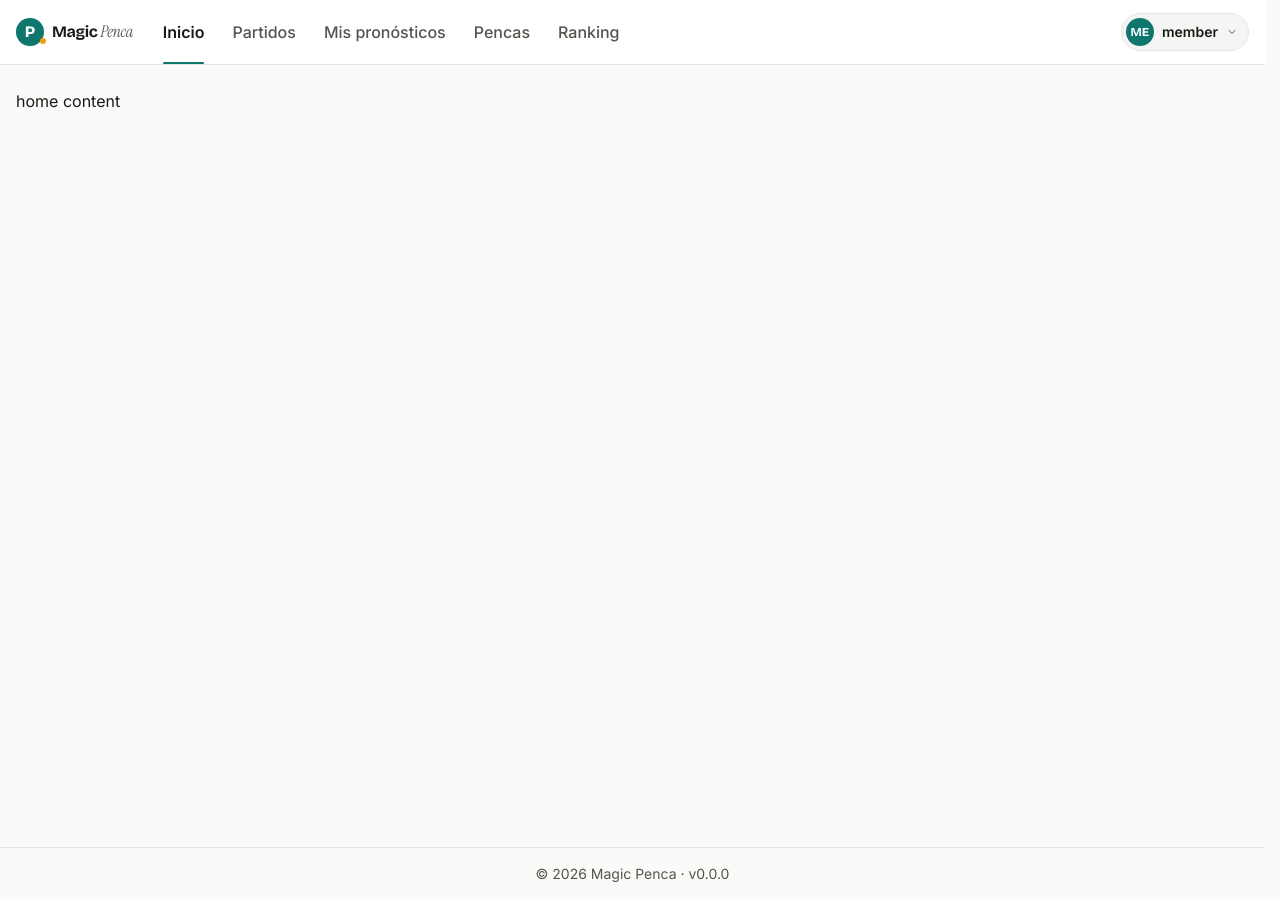
AppShell › hides the admin panel dropdown item from non-admins
Click the button "ME member": click(1185, 32) [1121,13,1249,51]
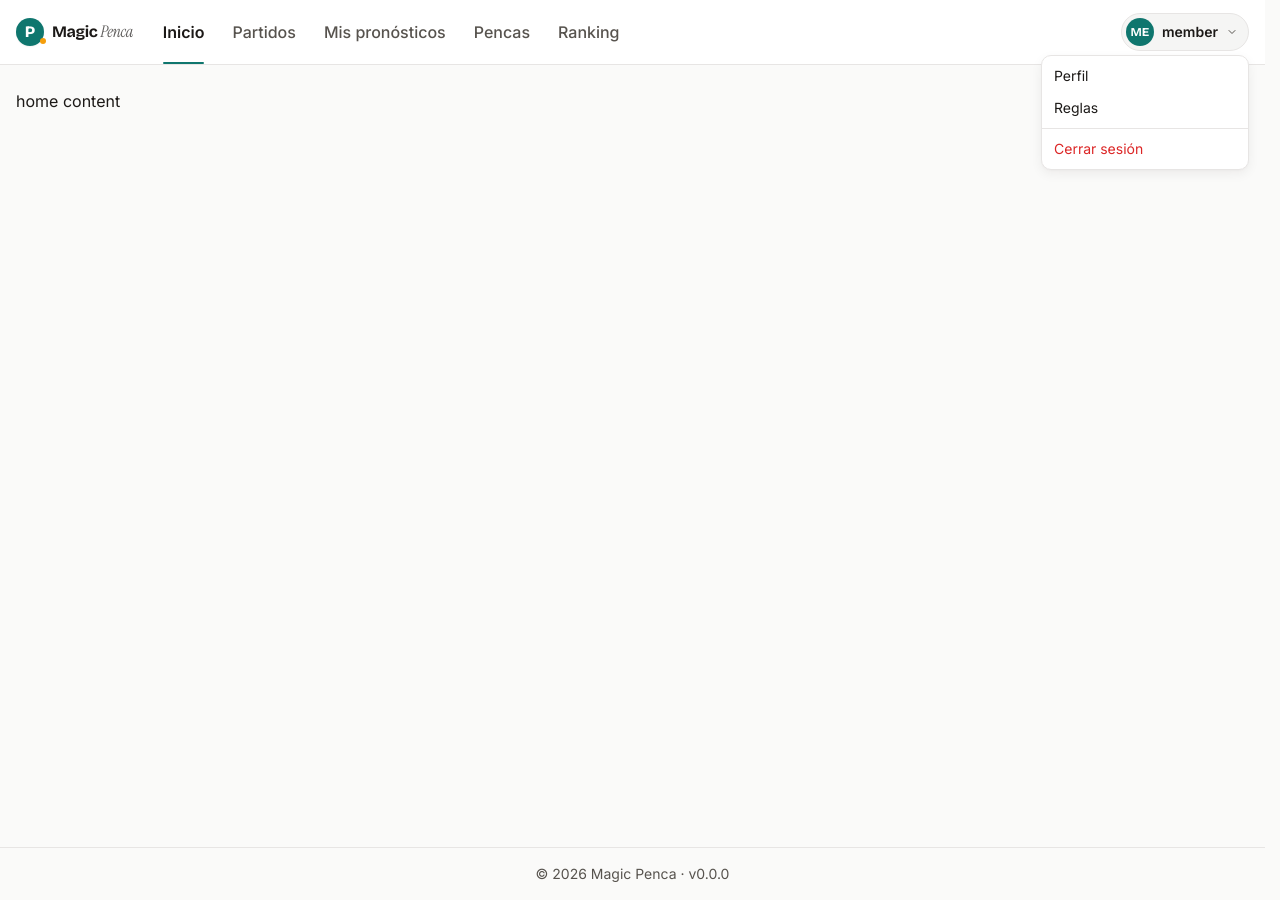
Check: the menu item "Perfil" is shown, box [1054,67,1088,84]
